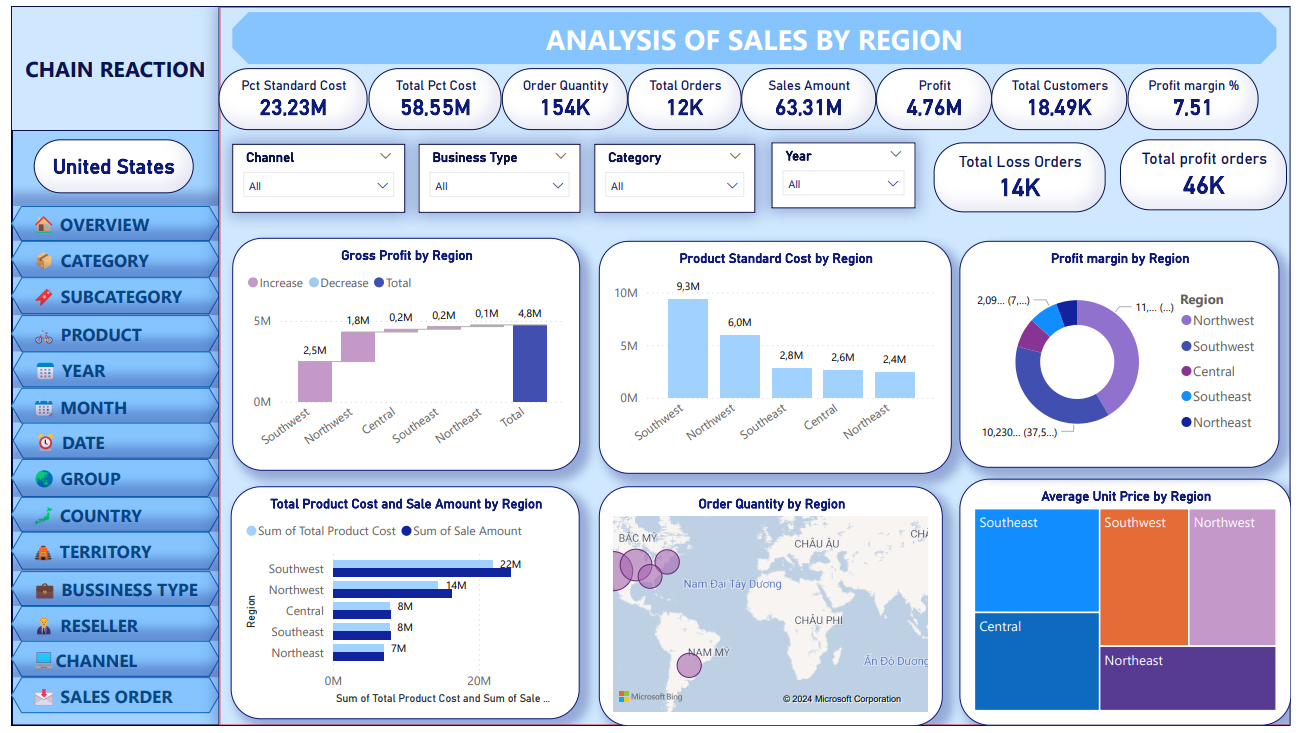

The dashboard page shown, as its layout file describes it:
{"tool":"powerbi","page":{"name":"Region","canvas":[1280,720],"ordinal":11},"visuals":[{"type":"shape","box":[0,0,209.9,720.4],"z":0},{"type":"shape","box":[0,199.4,208.6,35],"z":1000},{"type":"shape","box":[0,234.3,209,37],"z":2000},{"type":"shape","box":[0,271.3,209,37],"z":3000},{"type":"shape","box":[0,308.3,209,37],"z":4000},{"type":"shape","box":[1,345.3,208,36],"z":5000},{"type":"shape","box":[0,381.3,209,36],"z":6000},{"type":"shape","box":[1,417.3,208,36],"z":7000},{"type":"shape","box":[0,453.3,208,38],"z":8000},{"type":"shape","box":[0,491.3,209,35],"z":9000},{"type":"shape","box":[0,526.3,209,38],"z":10000},{"type":"shape","box":[0,564.3,209,35],"z":11000},{"type":"shape","box":[0,599.3,209,36],"z":12000},{"type":"shape","box":[0,635.3,209,36],"z":13000},{"type":"shape","box":[0,671.3,209,36],"z":14000},{"type":"shape","title":"dbdbdjb","box":[235.7,0,1044.3,52.1],"z":15000},{"type":"shape","box":[0.4,0,209.1,124.7],"z":16000},{"type":"shape","box":[207.6,0,1072.4,720.2],"z":17000},{"type":"card","title":"Order Quantity","fields":{"Values":["Sum(Sales.Order Quantity)"]},"box":[490.4,62.4,126,62.4],"z":18000},{"type":"card","title":"Pct Standard Cost","fields":{"Values":["Sum(Sales.Product Standard Cost)"]},"box":[207.9,62.4,149.2,62.4],"z":19000},{"type":"card","title":"Sales Amount","fields":{"Values":["Sum(Sales.Sale Amount)"]},"box":[730,62.4,134.5,62.4],"z":20000},{"type":"card","title":"Profit","fields":{"Values":["Sales.Profit"]},"box":[864.5,62.4,116.2,62.4],"z":21000},{"type":"card","title":"Total Pct Cost","fields":{"Values":["Sum(Sales.Total Product Cost)"]},"box":[357.1,62.4,133.3,62.4],"z":22000},{"type":"card","title":"Total Orders","fields":{"Values":["Sales.Total sale orders"]},"box":[616.3,62.4,113.7,62.4],"z":23000},{"type":"card","title":"Total Customers","fields":{"Values":["Count(Customer.Customer ID)"]},"box":[980.7,62.4,135.7,62.4],"z":24000},{"type":"card","title":"Profit margin %","fields":{"Values":["Sales.Profit margin"]},"box":[1116.4,62.4,130.8,62.4],"z":25000},{"type":"shape","title":"dbdbdjb","box":[221.1,5.6,1044.4,52.2],"z":26000},{"type":"waterfallChart","title":"Gross Profit by Region","fields":{"Y":["Sales.Profit"],"Category":["SalesTerritory.Region"]},"box":[221,231.3,347.7,233],"z":27000},{"type":"clusteredColumnChart","title":"Product Standard Cost by  Region","fields":{"Y":["Sum(Sales.Product Standard Cost)"],"Category":["SalesTerritory.Region"]},"box":[587.6,234.7,352.9,233],"z":28000},{"type":"treemap","title":"Average Unit Price by Region","fields":{"Group":["SalesTerritory.Region"],"Values":["Avg(Sales.Unit Price)"]},"box":[948.2,472.7,331.8,246.9],"z":29000},{"type":"clusteredBarChart","title":"Total Product Cost and Sale Amount by Region","fields":{"Category":["SalesTerritory.Region"],"Y":["Sum(Sales.Total Product Cost)","Sum(Sales.Sale Amount)"]},"box":[219.3,479.6,349.4,233],"z":30000},{"type":"map","title":"Order Quantity by Region","fields":{"Category":["SalesTerritory.Region"],"Size":["Sum(Sales.Order Quantity)"]},"box":[587.6,479.6,344.3,239.8],"z":31000},{"type":"donutChart","fields":{"Category":["SalesTerritory.Region"],"Y":["Sales.Profit margin"]},"box":[948.4,234.8,319.7,227.2],"z":32000},{"type":"slicer","title":"Date","fields":{"Values":["Date.Year"]},"box":[760.2,135.8,144.1,65.9],"z":33000},{"type":"slicer","title":"Category","fields":{"Values":["Category.Category"]},"box":[583.2,137.2,160.5,68.6],"z":34000},{"type":"slicer","title":"Channel","fields":{"Values":["Business Type.Business Type"]},"box":[407.5,137.2,161.9,68.6],"z":35000},{"type":"card","title":"Total profit orders","fields":{"Values":["Sales.Total_Profit_Orders"]},"box":[1108.8,133.1,167.4,71.4],"z":36000},{"type":"card","title":"Total Loss Orders","fields":{"Values":["Sales.Total_Loss_Orders"]},"box":[922.1,135.8,171.5,70],"z":37000},{"type":"slicer","fields":{"Values":["Channel.Channel"]},"box":[220.9,137.2,172.9,68.6],"z":38000},{"type":"card","fields":{"Values":["Country.SCountry"]},"box":[23.2,133.3,160.2,53.8],"z":39000}]}

Visuals, with their boxes in screenshot pixels (x1, y1, x2, y2), scaled from the page's 1280x720 canvas onto the 1298x733 screenshot:
shape: <region>0, 0, 213, 732</region>
shape: <region>0, 203, 212, 239</region>
shape: <region>0, 239, 212, 276</region>
shape: <region>0, 276, 212, 314</region>
shape: <region>0, 314, 212, 352</region>
shape: <region>1, 352, 212, 388</region>
shape: <region>0, 388, 212, 425</region>
shape: <region>1, 425, 212, 461</region>
shape: <region>0, 461, 211, 500</region>
shape: <region>0, 500, 212, 536</region>
shape: <region>0, 536, 212, 574</region>
shape: <region>0, 574, 212, 610</region>
shape: <region>0, 610, 212, 647</region>
shape: <region>0, 647, 212, 683</region>
shape: <region>0, 683, 212, 720</region>
"dbdbdjb" shape: <region>239, 0, 1297, 53</region>
shape: <region>0, 0, 212, 127</region>
shape: <region>211, 0, 1297, 732</region>
"Order Quantity" card: <region>497, 64, 625, 127</region>
"Pct Standard Cost" card: <region>211, 64, 362, 127</region>
"Sales Amount" card: <region>740, 64, 877, 127</region>
"Profit" card: <region>877, 64, 994, 127</region>
"Total Pct Cost" card: <region>362, 64, 497, 127</region>
"Total Orders" card: <region>625, 64, 740, 127</region>
"Total Customers" card: <region>994, 64, 1132, 127</region>
"Profit margin %" card: <region>1132, 64, 1265, 127</region>
"dbdbdjb" shape: <region>224, 6, 1283, 59</region>
"Gross Profit by Region" waterfallChart: <region>224, 235, 577, 473</region>
"Product Standard Cost by  Region" clusteredColumnChart: <region>596, 239, 954, 476</region>
"Average Unit Price by Region" treemap: <region>962, 481, 1297, 732</region>
"Total Product Cost and Sale Amount by Region" clusteredBarChart: <region>222, 488, 577, 725</region>
"Order Quantity by Region" map: <region>596, 488, 945, 732</region>
donutChart - SalesTerritory.Region x Sales.Profit margin: <region>962, 239, 1286, 470</region>
"Date" slicer: <region>771, 138, 917, 205</region>
"Category" slicer: <region>591, 140, 754, 210</region>
"Channel" slicer: <region>413, 140, 577, 210</region>
"Total profit orders" card: <region>1124, 136, 1294, 208</region>
"Total Loss Orders" card: <region>935, 138, 1109, 210</region>
slicer - Channel.Channel: <region>224, 140, 399, 210</region>
card - Country.SCountry: <region>24, 136, 186, 190</region>
